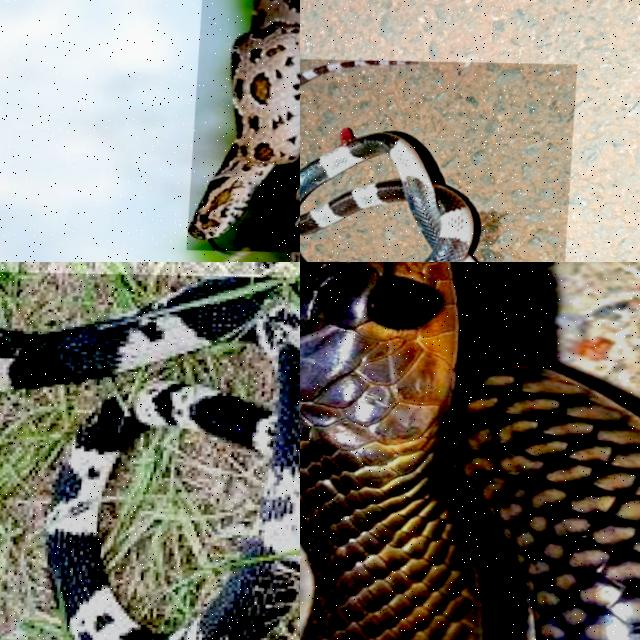Bungarus candidus: (300, 133, 474, 261)
Daboia siamensis: (188, 0, 299, 249)
Naja kaouthia: (300, 262, 639, 639)
Naja siamensis: (0, 277, 299, 639)
